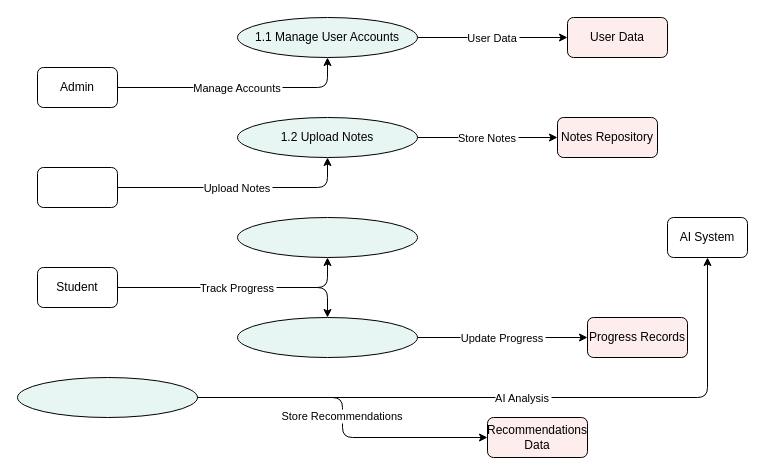
Image size: 765x475. Some labels were removed from this diagram. Here are the shapes that lost their labels. From the top down, the centre of each, then its label:
At [77,187]: "Teacher".
At [327,237]: "1.3 View Notes".
At [327,337]: "1.4 Track Student Progress".
At [107,397]: "1.5 Generate Recommendations".
